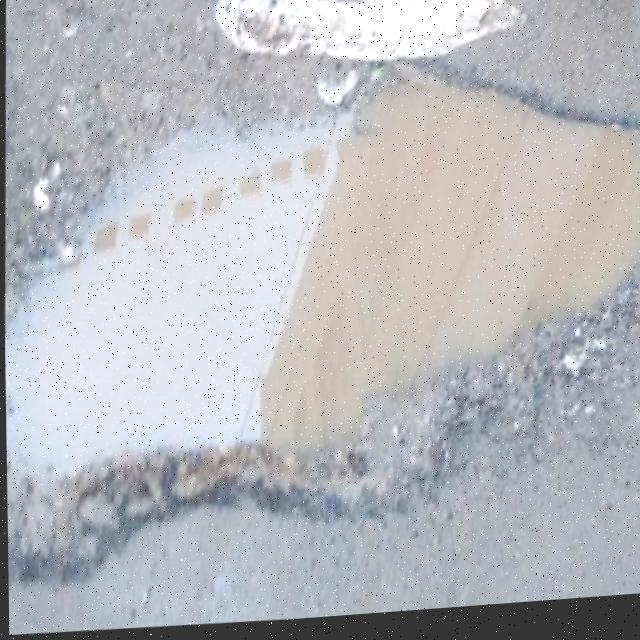Pothole: (1, 51, 640, 611)
